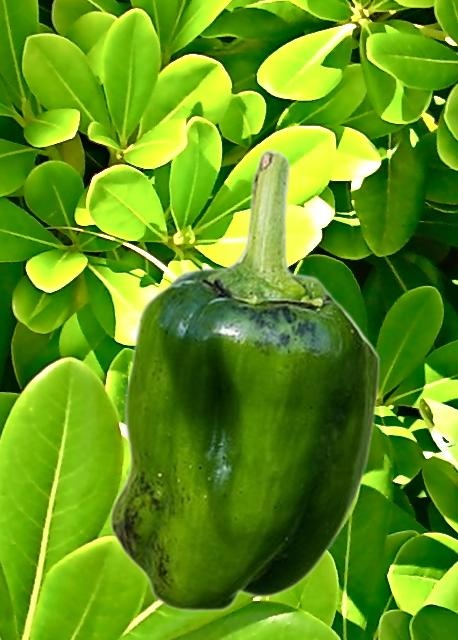bell_pepper: (108, 147, 379, 612)
